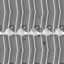dust: (42, 41, 46, 44), (37, 34, 40, 37), (22, 38, 25, 40)
